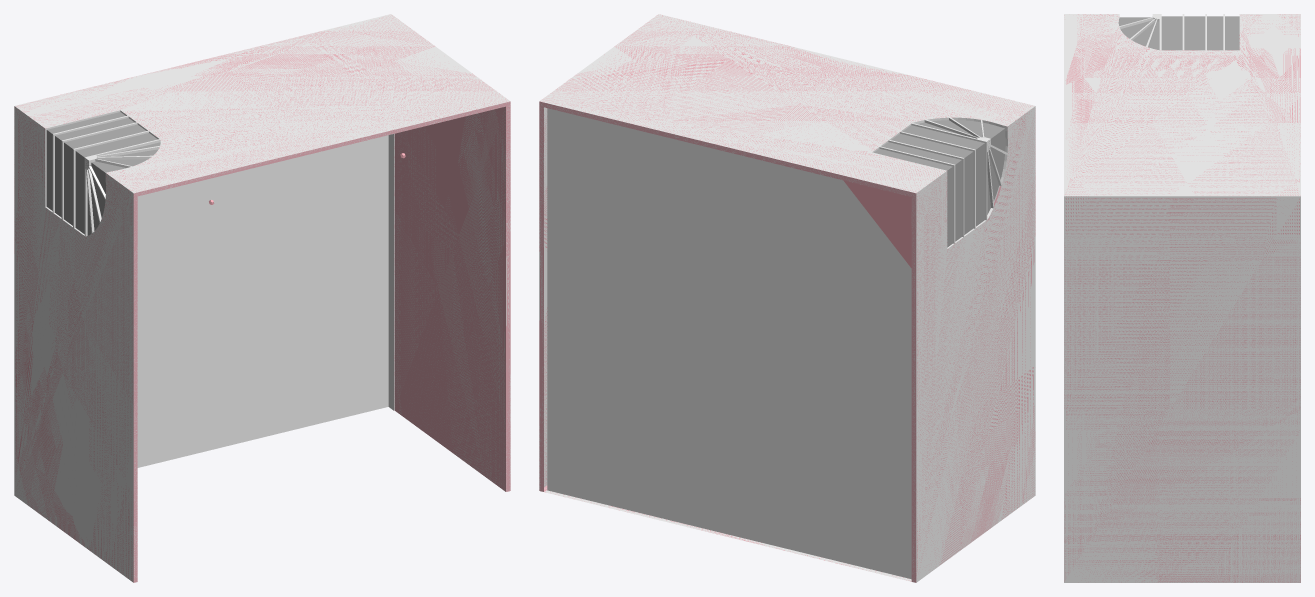
Rendered from room08.obj.
3 renders of one model, left to right at view 1: azimuth 30°, elevation 25°; view 2: azimuth 150°, elevation 25°; view 3: azimuth 270°, elevation 25°, orthographic.
Visible parts, largest first — view 1: room08; view 2: room08; view 3: room08.
Boxes of the visible parts, box(x1,y1,x2,y2) form: room08: box(14, 14, 510, 582); room08: box(539, 14, 1035, 582); room08: box(1064, 14, 1300, 582).
Size of the model in its own units: 246 by 243 by 135.
